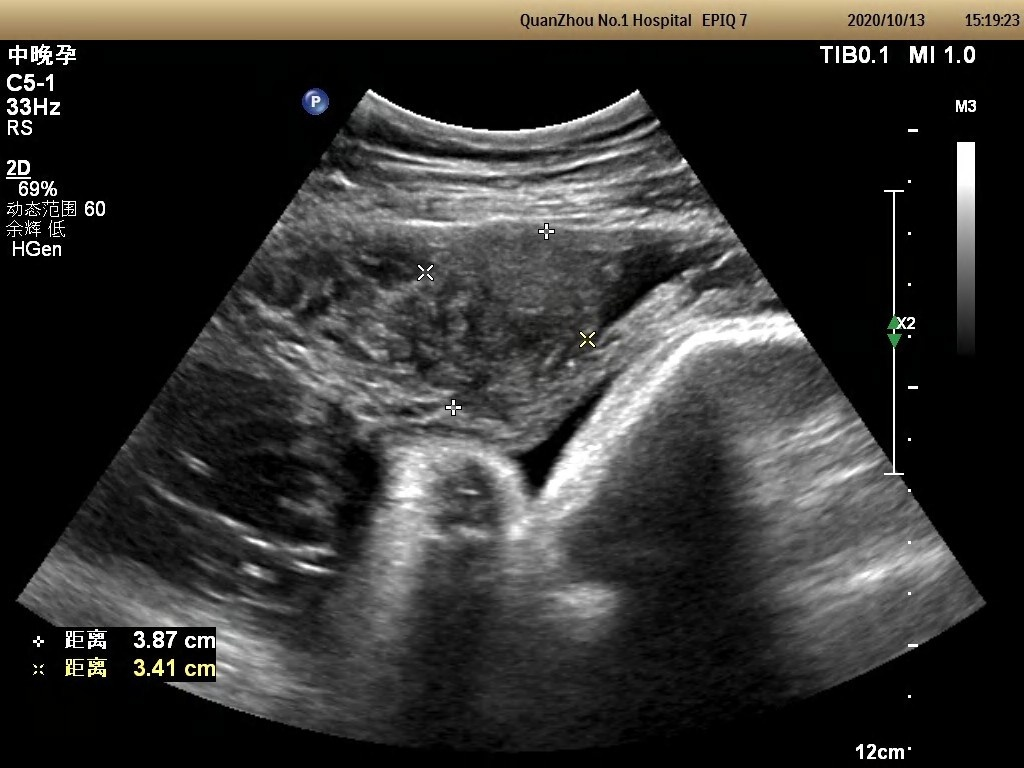肌瘤: (416, 229, 588, 416)
